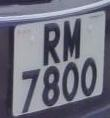0: (61, 58, 82, 106), (80, 55, 99, 100)
7: (17, 65, 42, 114)
8: (40, 62, 63, 111)
M: (61, 15, 84, 64)
R: (40, 18, 63, 68)
